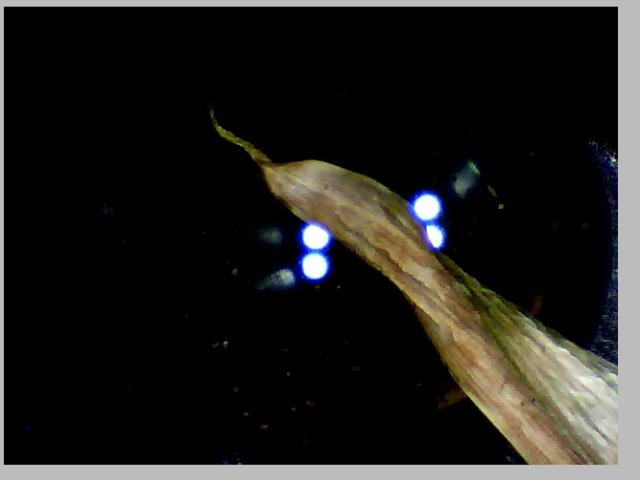feuille: (196, 101, 616, 464)
